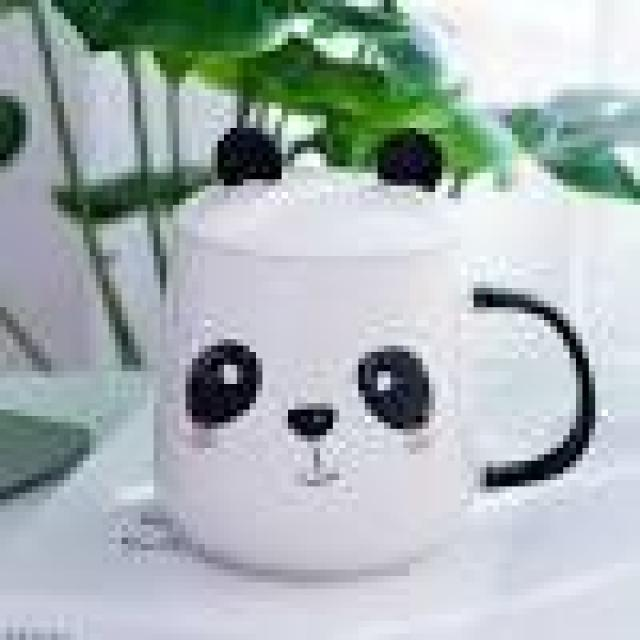taza: (116, 173, 614, 585)
